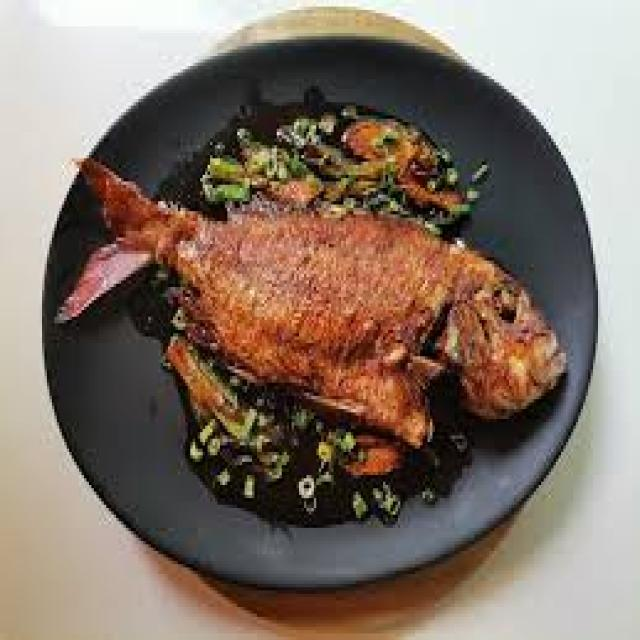Peixe: (57, 149, 568, 475)
